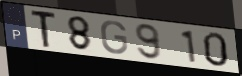0: (201, 31, 231, 69)
1: (180, 30, 198, 64)
8: (66, 15, 94, 53)
9: (133, 22, 162, 62)
G: (99, 19, 129, 56)
T: (30, 10, 58, 50)
